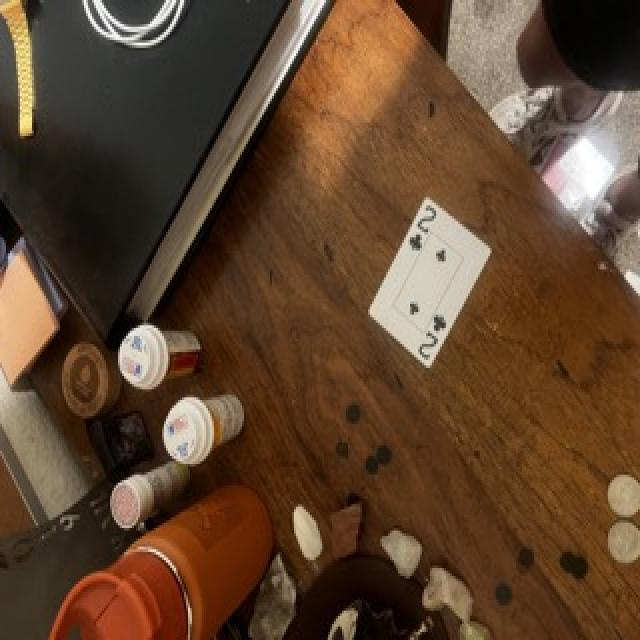2 of clubs: (371, 198, 491, 367)
